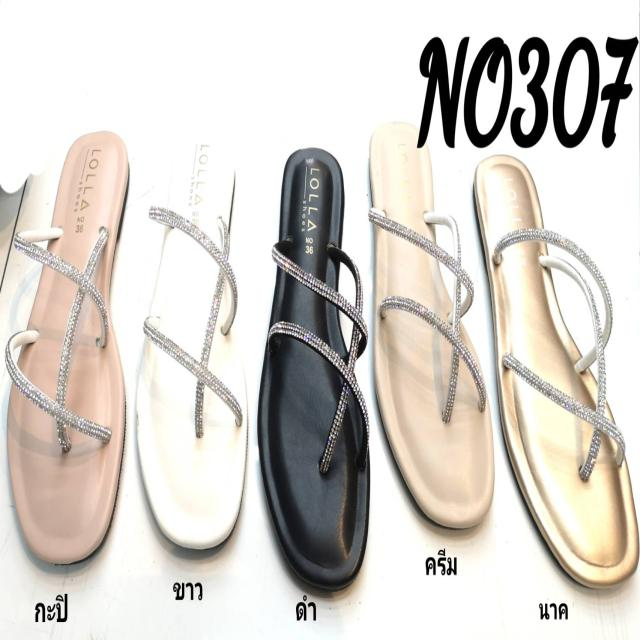cream: (364, 123, 494, 531)
kapi: (9, 130, 125, 566)
nak: (474, 156, 636, 586)
white: (255, 147, 368, 587), (134, 131, 244, 548)
